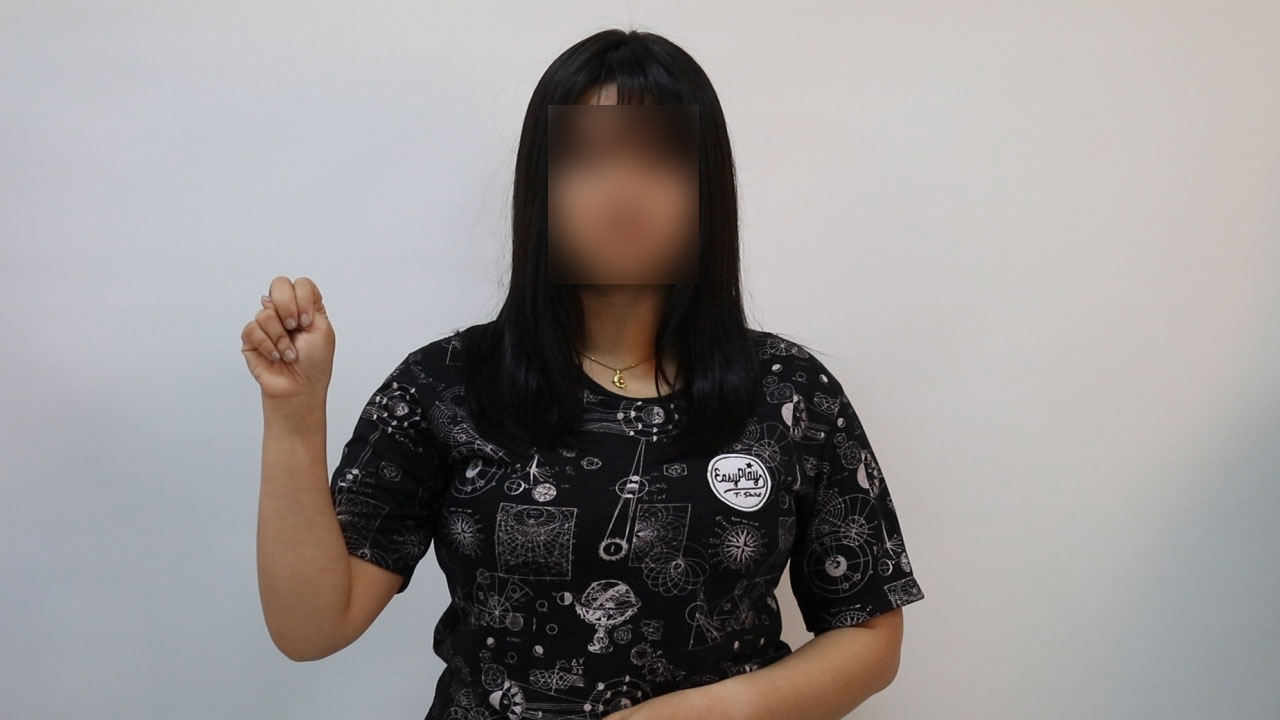nor: (232, 269, 347, 412)
